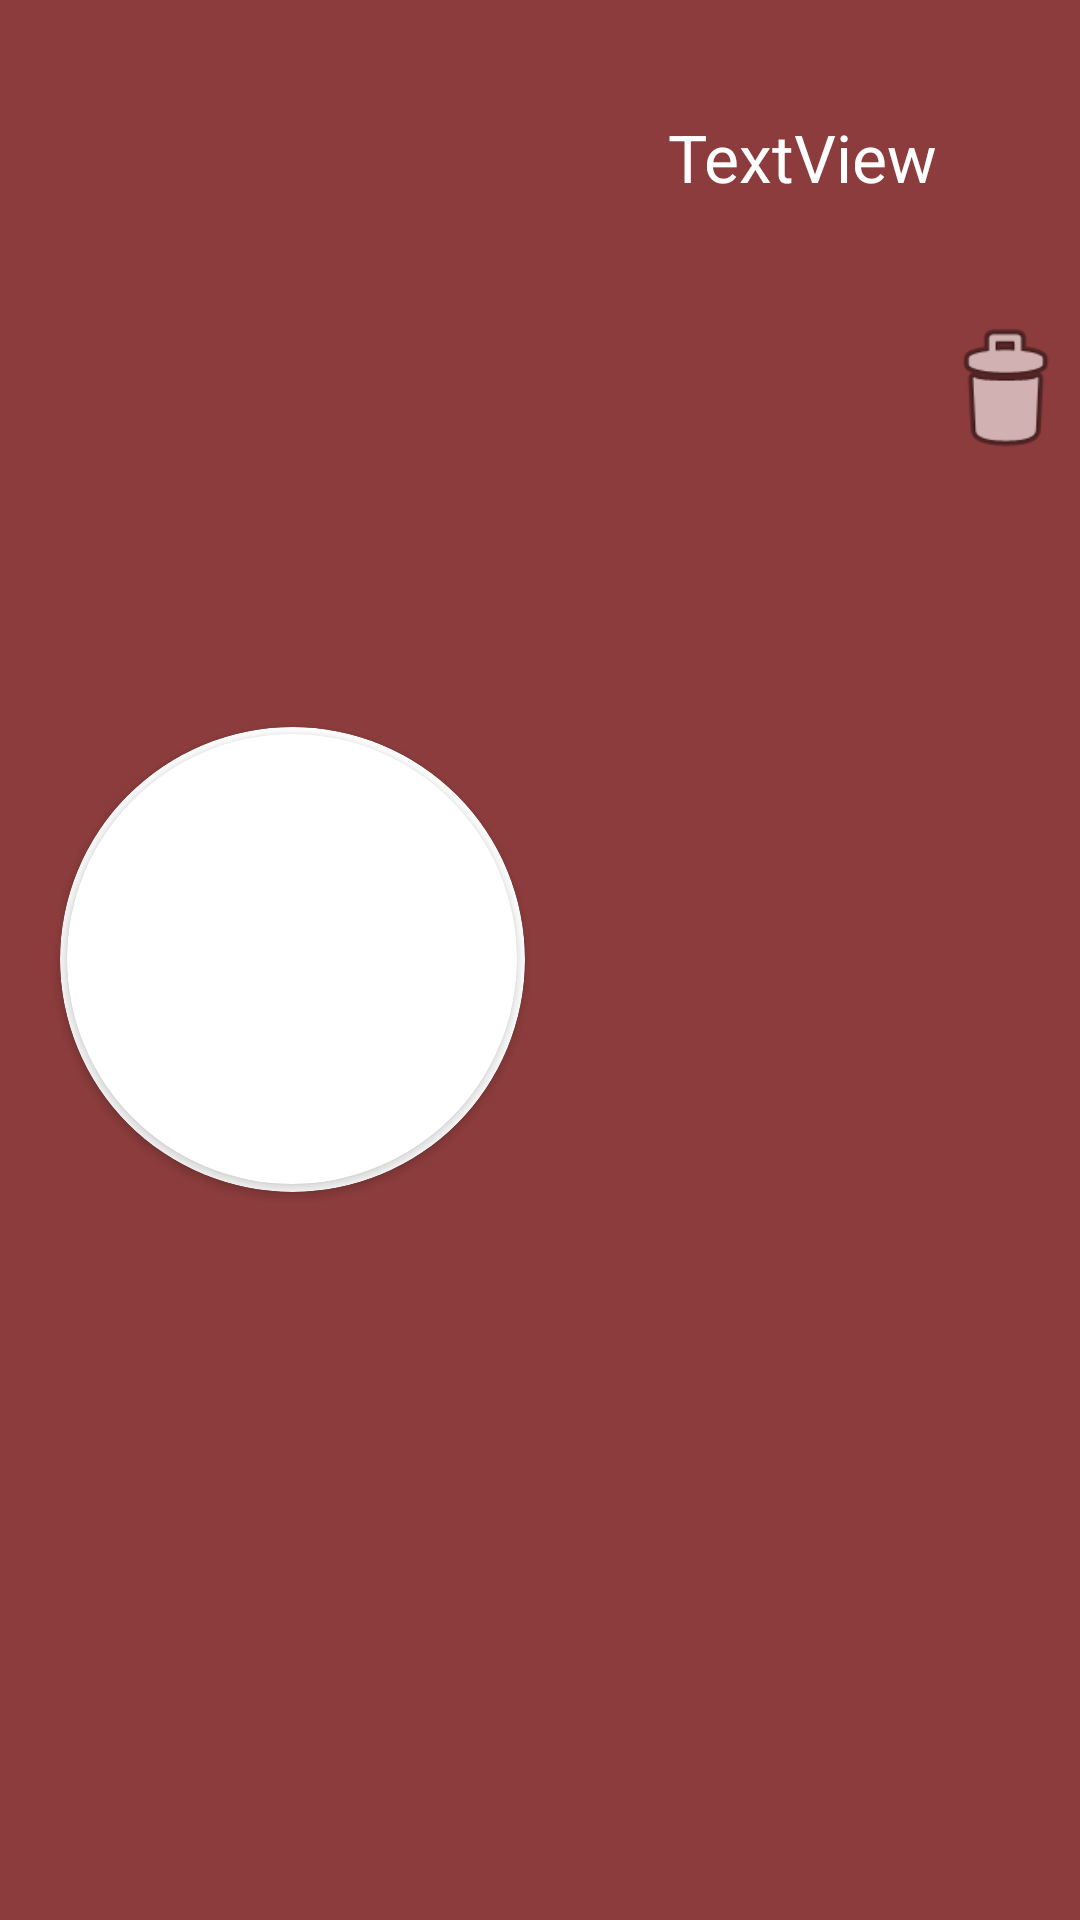

Where icons sit on this 1080w x 1920h app screen, as (x1, y1, x2, y2):
delete: (964, 329, 1048, 446)
